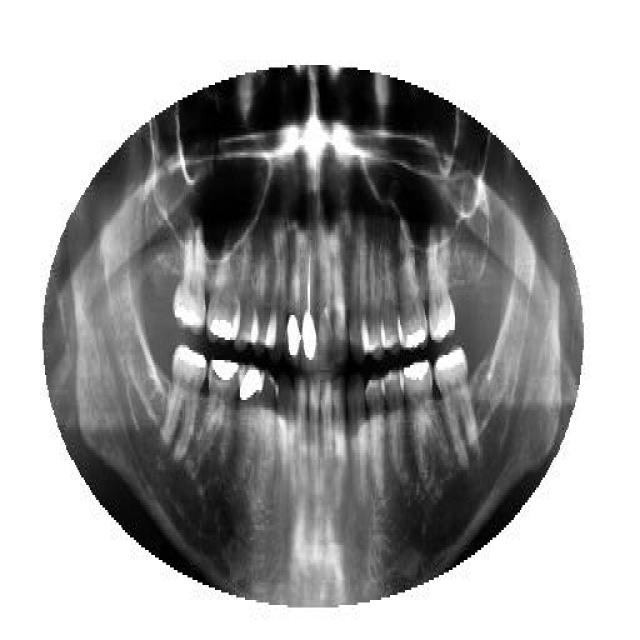Fillings: (402, 358, 450, 480), (199, 358, 240, 462), (172, 220, 208, 335), (399, 222, 429, 352), (208, 238, 240, 340), (238, 355, 264, 463), (288, 218, 302, 362)
Implant: (302, 233, 318, 365)
